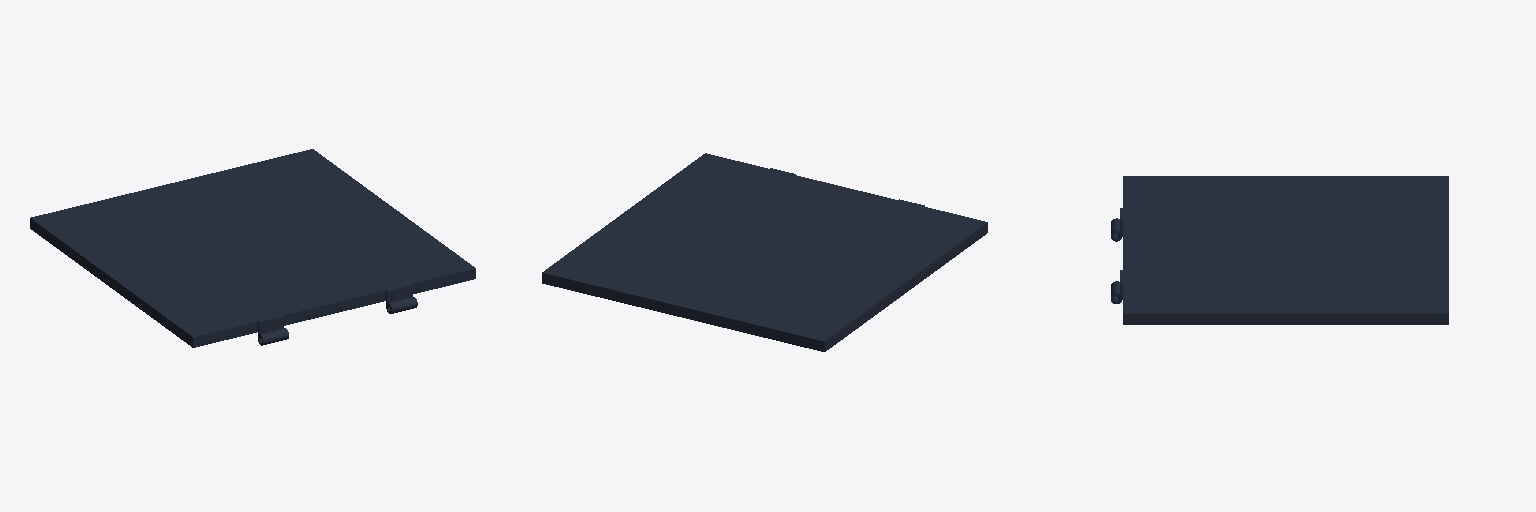
Rendered from closed-box_couvercle.obj.
The picture shows the model from 3 angles: view 1: azimuth 30°, elevation 25°; view 2: azimuth 150°, elevation 25°; view 3: azimuth 270°, elevation 25°; orthographic projection.
Parts seen in each view (by area): view 1: Couvercle; view 2: Couvercle; view 3: Couvercle.
Part boxes in pixels (x1,y1,x2,y2): Couvercle: (30, 149, 475, 347); Couvercle: (542, 153, 987, 351); Couvercle: (1111, 176, 1448, 324).
Size of the model in its own units: 550 by 40 by 570.